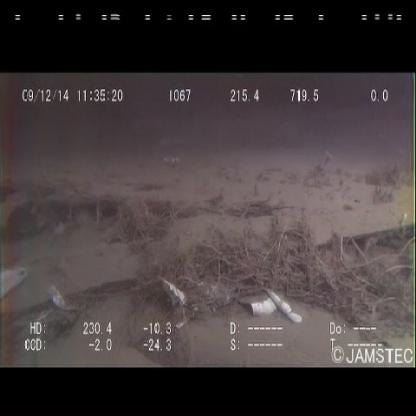Rác: (157, 273, 228, 327), (236, 283, 303, 327), (41, 278, 92, 322)
